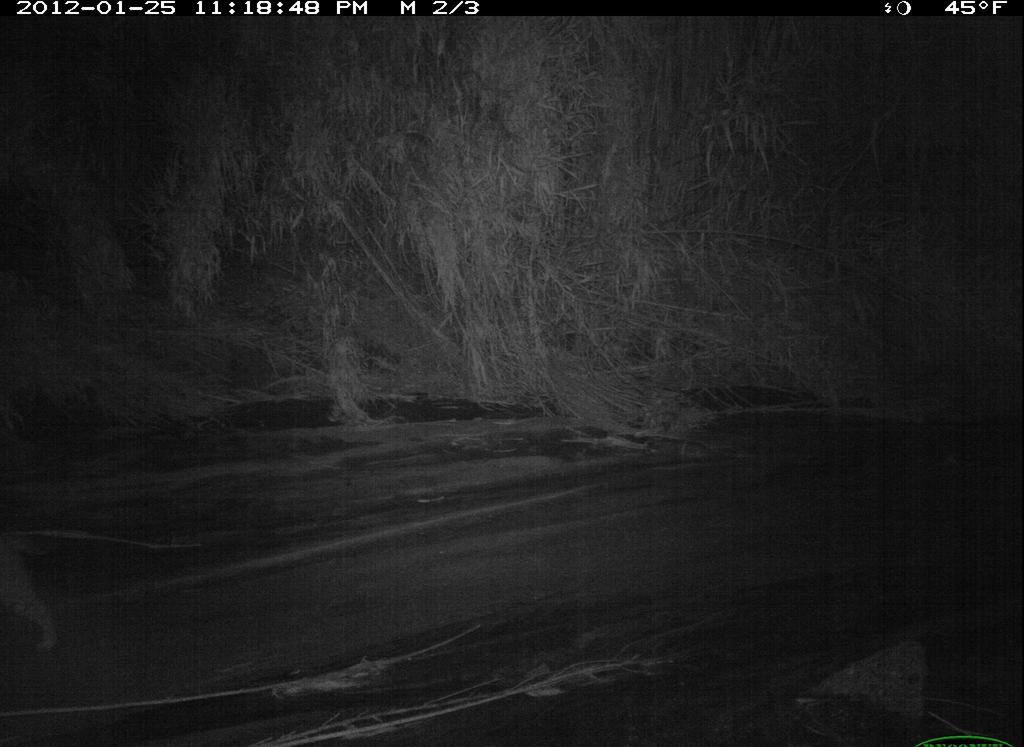bobcat: (1, 518, 67, 661)
